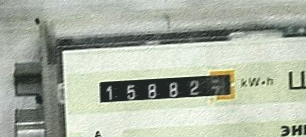1: (104, 85, 114, 101)
2: (187, 79, 198, 96)
5: (125, 83, 136, 100)
7: (210, 84, 219, 96)
8: (146, 83, 157, 100), (167, 81, 178, 98)
screen: (91, 65, 241, 113)
